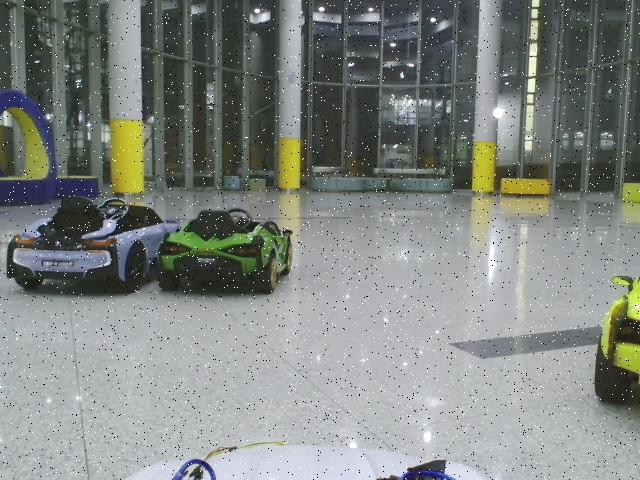car: (8, 196, 183, 295), (158, 208, 295, 294)
